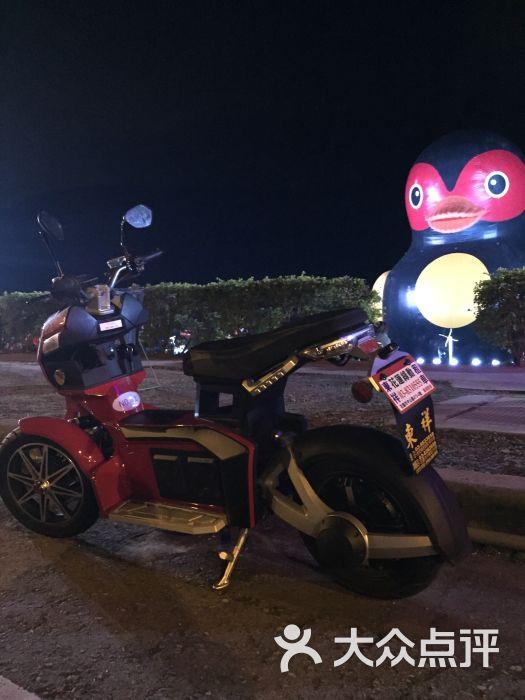电动车: (1, 195, 466, 606)
